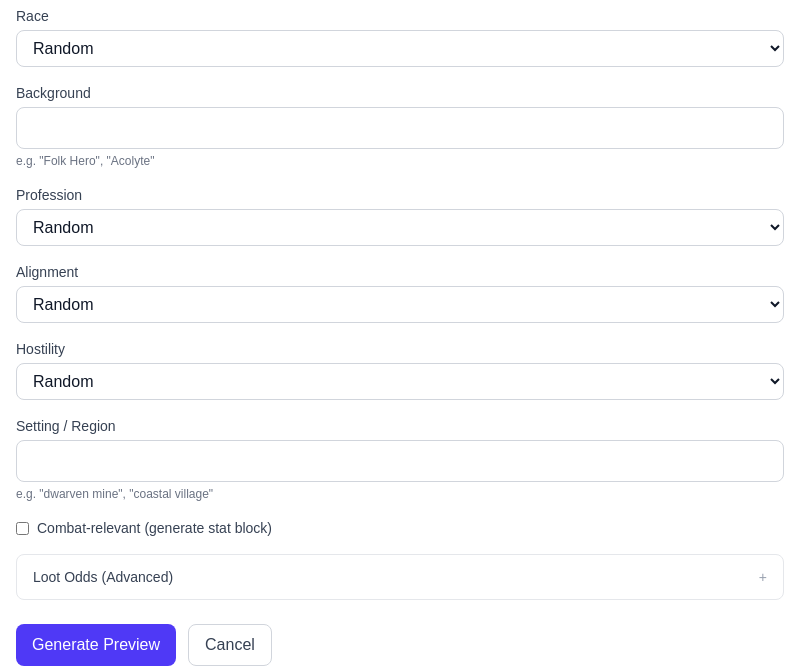
Test case: NewNpcPage › leaves zero denominations out of the preview coinage
The width and height of the screenshot is (801, 666).
(page scrolled)
What coordinates should you click on to do the following:
click the button "Generate Preview"
I would click on:
 (96, 645)
Its box is [16,624,176,665].
(page scrolled)
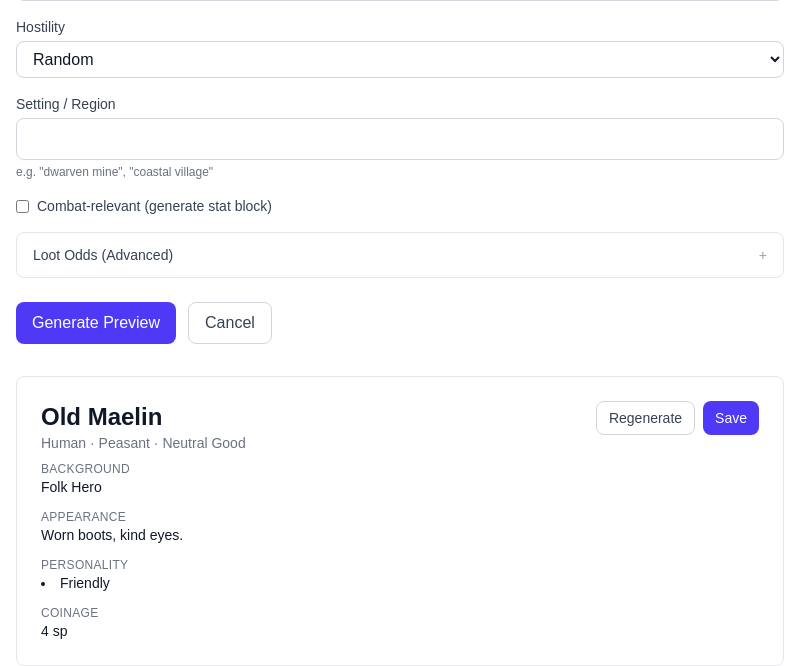
Expected: the text "4 sp" is shown, [41,623,68,639]
